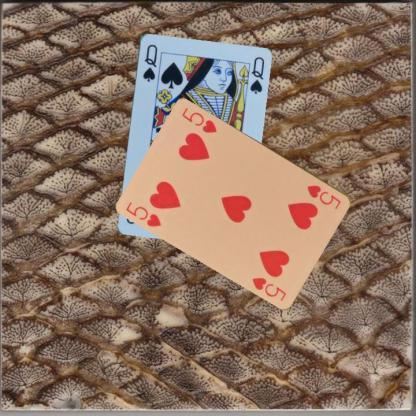5h: (124, 198, 163, 228), (304, 182, 342, 210)
Qs: (140, 42, 159, 82)
